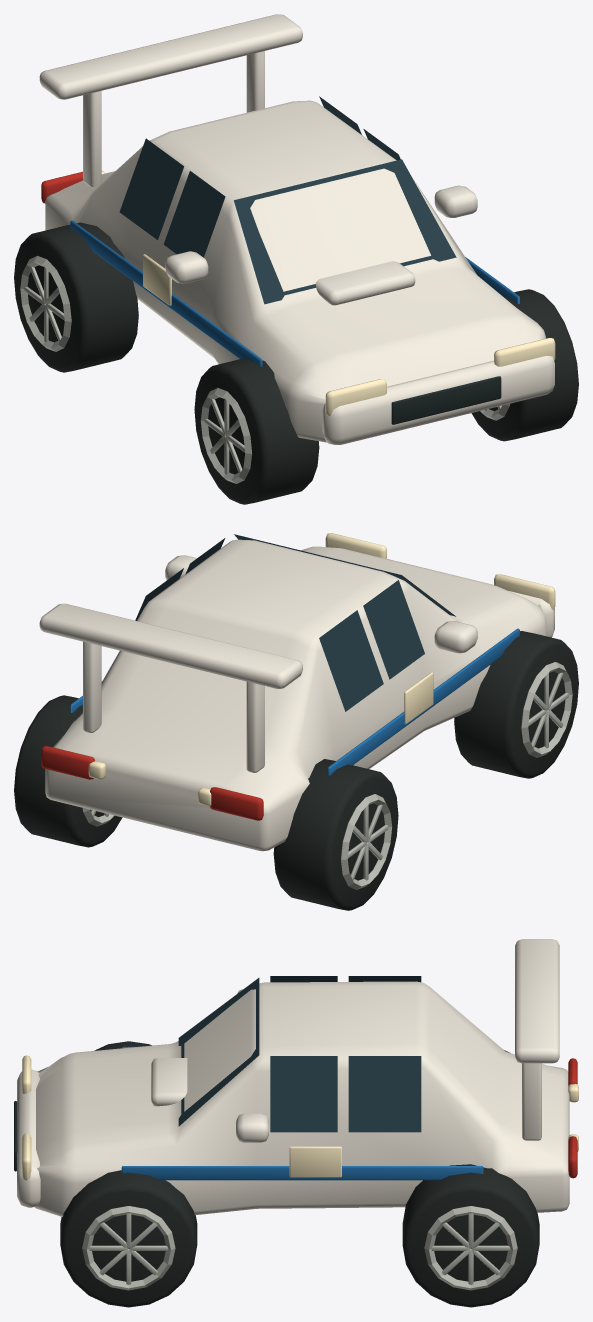
Rendered from car-1.glb.
The picture shows the model from 3 angles, top to bottom: view 1: azimuth 30°, elevation 25°; view 2: azimuth 150°, elevation 25°; view 3: azimuth 270°, elevation 25°; orthographic projection. The views are drawn at different scales.
Parts seen in each view (by area): view 1: body_surface.001, side_window.001, flat_tyre.005, flat_tyre.004, flat_tyre.006, rally_stripe.001, rim.004, rim.005, intake.001, headlamp_-0.001, headlamp_0.001, door_number.001; view 2: body_surface.001, flat_tyre.005, flat_tyre.004, side_window.001, flat_tyre.007, rim.005, rally_stripe.001, rim.004, taillamp_-0.001, taillamp_0.001, door_number.001, headlamp_-0.001 (+1 smaller); view 3: body_surface.001, side_window.001, flat_tyre.007, flat_tyre.006, rally_stripe.001, rim.006, rim.007, door_number.001.
Part boxes in pixels (x1,y1,x2,y2): body_surface.001: [39, 14, 554, 444]; side_window.001: [119, 96, 456, 304]; flat_tyre.005: [14, 222, 138, 372]; flat_tyre.004: [194, 358, 319, 504]; flat_tyre.006: [471, 289, 578, 441]; rally_stripe.001: [70, 220, 519, 366]; rim.004: [200, 388, 252, 483]; rim.005: [20, 255, 71, 351]; intake.001: [391, 376, 501, 424]; headlamp_-0.001: [325, 379, 386, 416]; headlamp_0.001: [494, 338, 555, 366]; door_number.001: [143, 254, 171, 305]; body_surface.001: [39, 539, 554, 851]; flat_tyre.005: [273, 759, 398, 910]; flat_tyre.004: [454, 631, 578, 778]; side_window.001: [135, 534, 455, 711]; flat_tyre.007: [14, 695, 122, 847]; rim.005: [341, 794, 392, 889]; rally_stripe.001: [70, 628, 519, 775]; rim.004: [521, 662, 572, 757]; taillamp_-0.001: [210, 787, 263, 820]; taillamp_0.001: [41, 746, 94, 779]; door_number.001: [404, 672, 433, 724]; headlamp_-0.001: [494, 574, 555, 609]; body_surface.001: [17, 939, 569, 1216]; side_window.001: [178, 976, 421, 1132]; flat_tyre.007: [402, 1164, 539, 1307]; flat_tyre.006: [60, 1170, 197, 1307]; rally_stripe.001: [121, 1046, 483, 1180]; rim.006: [82, 1206, 175, 1290]; rim.007: [424, 1206, 517, 1290]; door_number.001: [289, 1146, 341, 1177].
Bounding box in the file's own units: 2.72 × 2.04 × 4.29.
